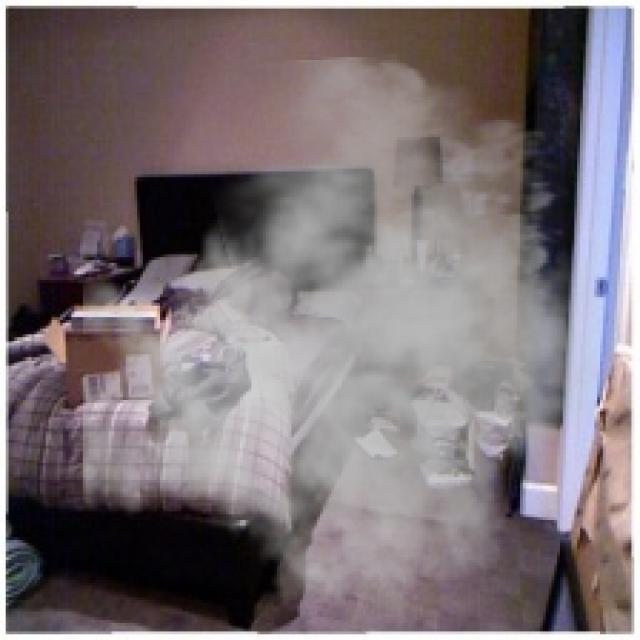Smoke: (82, 54, 628, 623)
